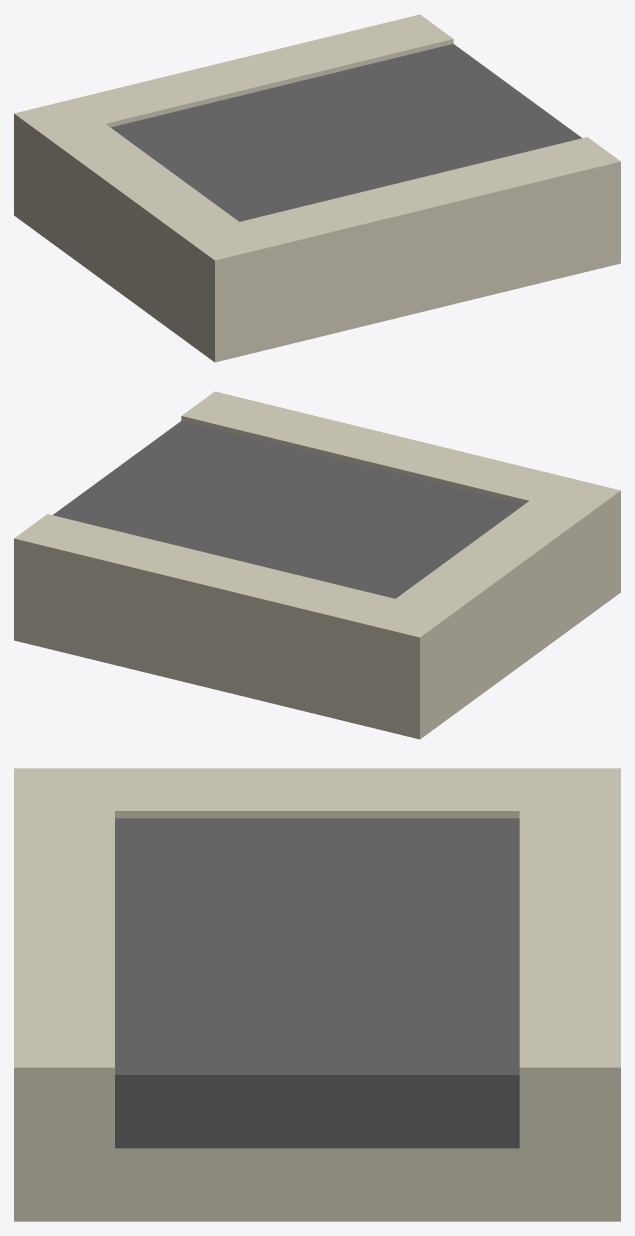
Rendered from roadTile_131.fbx.
The picture shows the model from 3 angles, top to bottom: view 1: azimuth 30°, elevation 25°; view 2: azimuth 150°, elevation 25°; view 3: azimuth 270°, elevation 25°; orthographic projection. The views are drawn at different scales.
Visible parts, largest first — view 1: roadTile_131; view 2: roadTile_131; view 3: roadTile_131.
Boxes of the visible parts, x1,y1,x2,y2 form: roadTile_131: (14,14,620,362); roadTile_131: (14,391,620,739); roadTile_131: (14,768,620,1221).
Bounding box in the file's own units: 103 × 24.8 × 88.58.
